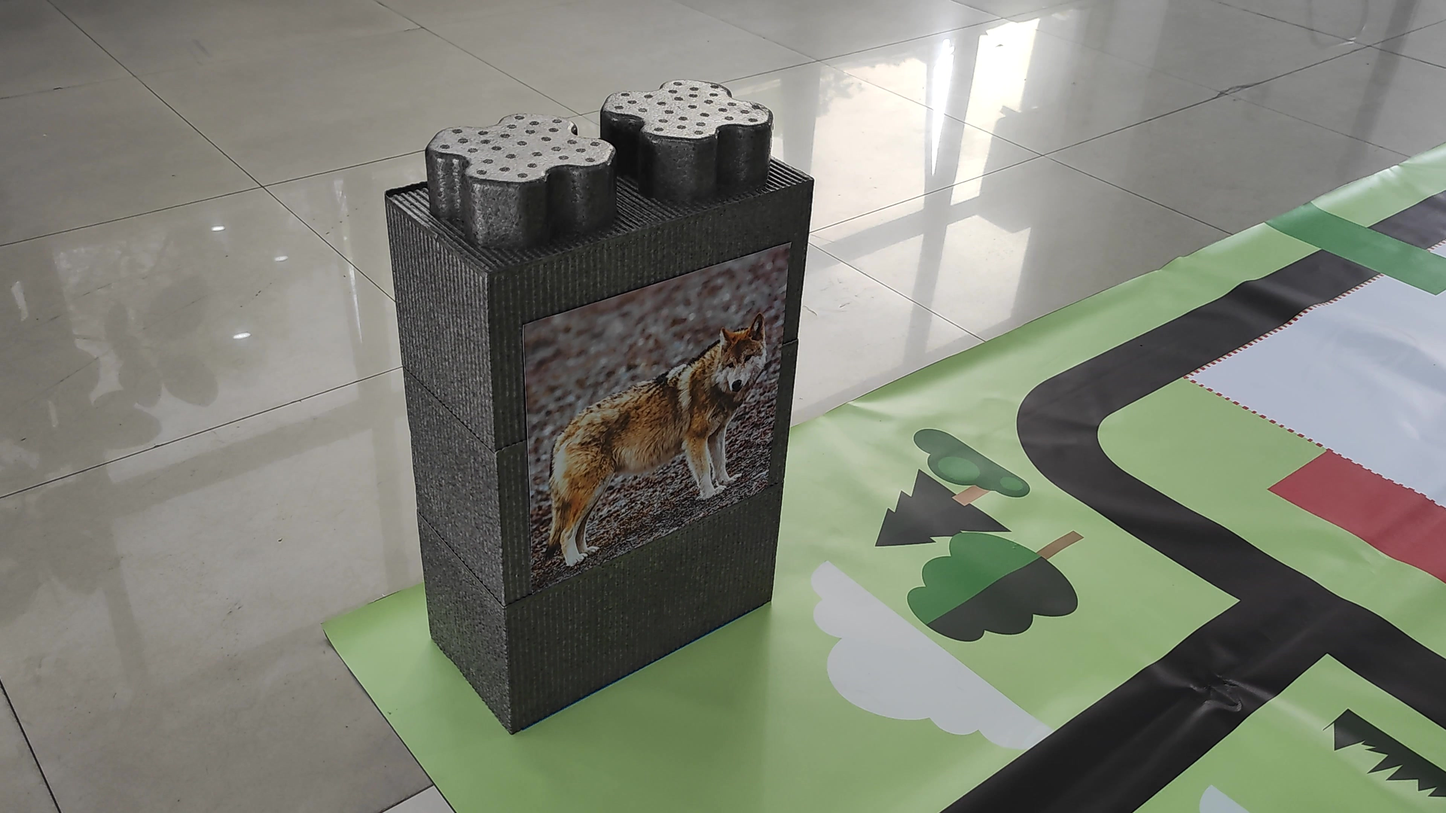wolf: (523, 299, 791, 562)
